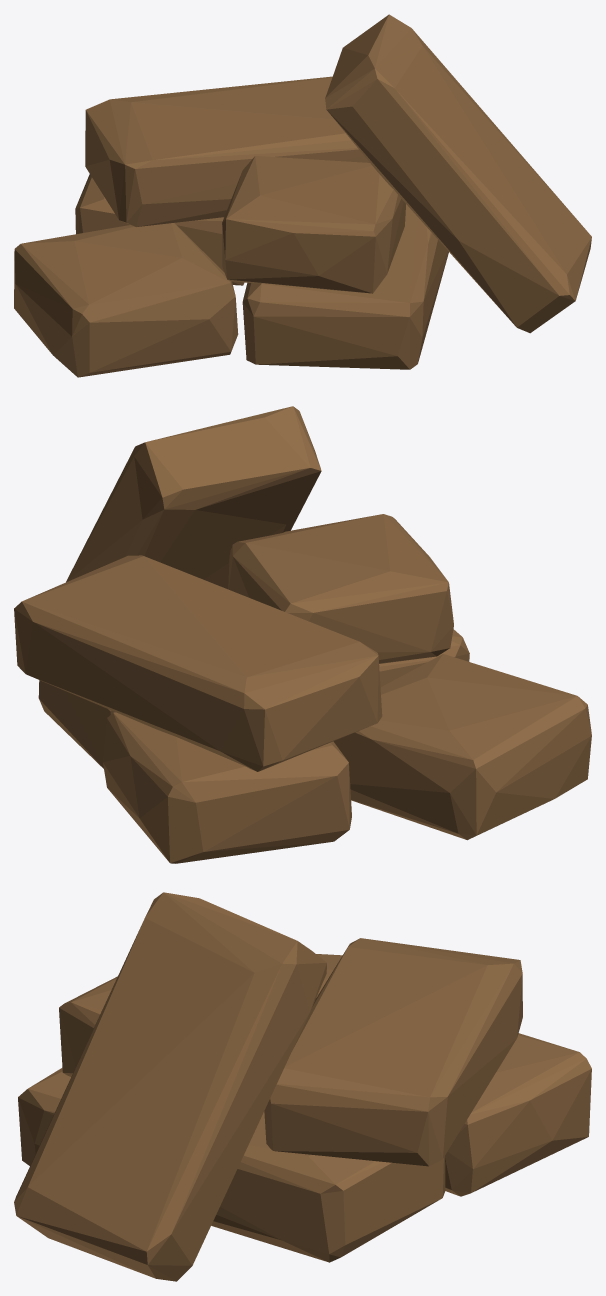
Rendered from LPWarPack_SandBags2.fbx.
The picture shows the model from 3 angles, top to bottom: view 1: azimuth 30°, elevation 25°; view 2: azimuth 150°, elevation 25°; view 3: azimuth 270°, elevation 25°; orthographic projection. The views are drawn at different scales.
Visible parts, largest first — view 1: SandBags2; view 2: SandBags2; view 3: SandBags2.
Part boxes in pixels (x1,y1,x2,y2): SandBags2: [14, 14, 591, 377]; SandBags2: [14, 406, 591, 863]; SandBags2: [14, 892, 591, 1281].
Size of the model in its own units: 111 by 55.58 by 98.58.
